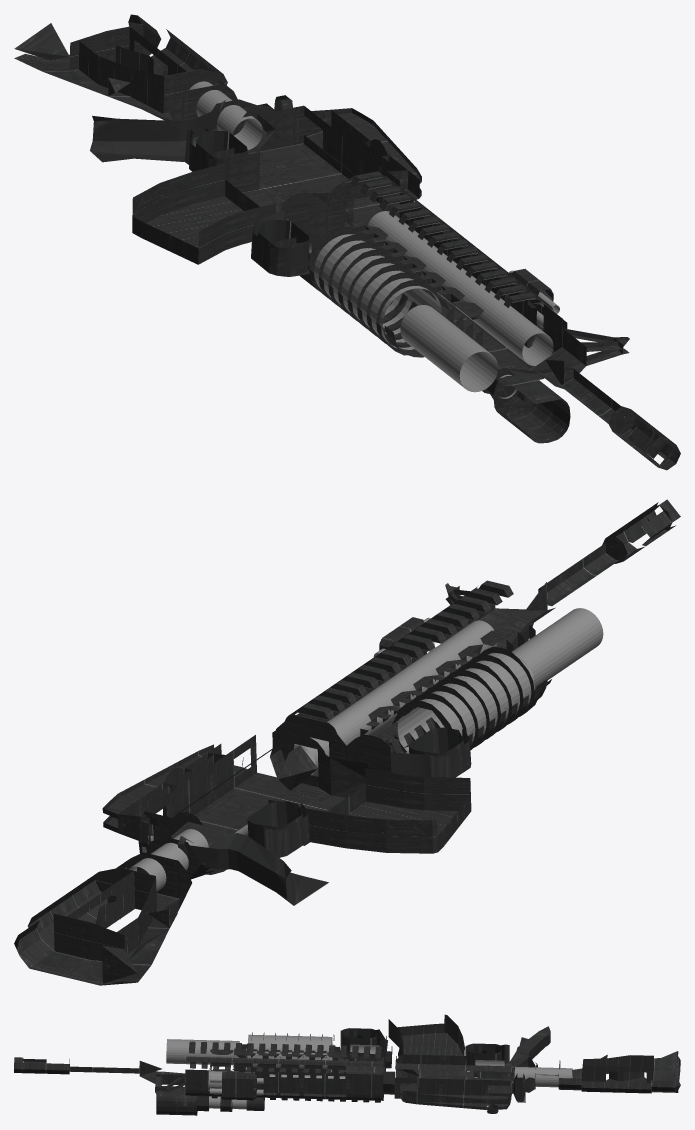
File: tris.obj
The picture shows the model from 3 angles, top to bottom: view 1: azimuth 30°, elevation 25°; view 2: azimuth 150°, elevation 25°; view 3: azimuth 270°, elevation 25°; orthographic projection. The views are drawn at different scales.
Visible parts, largest first — view 1: tris; view 2: tris; view 3: tris.
Part boxes in pixels (box(x1,y1,x2,y2)): tris: box(14, 14, 680, 470); tris: box(14, 499, 680, 985); tris: box(14, 1014, 680, 1115).
Bounding box in the file's own units: 1.88 × 0.7961 × 6.92.
1 material, 1 textured.
